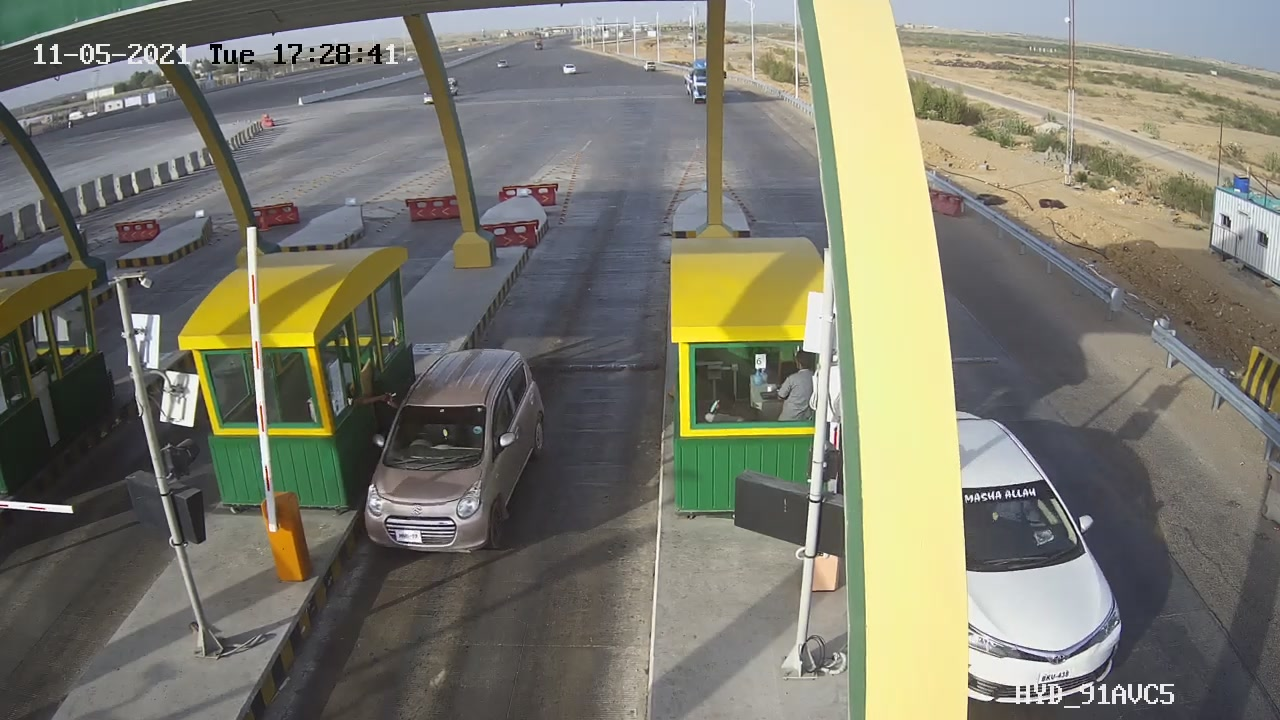F1: (350, 334, 557, 569)
